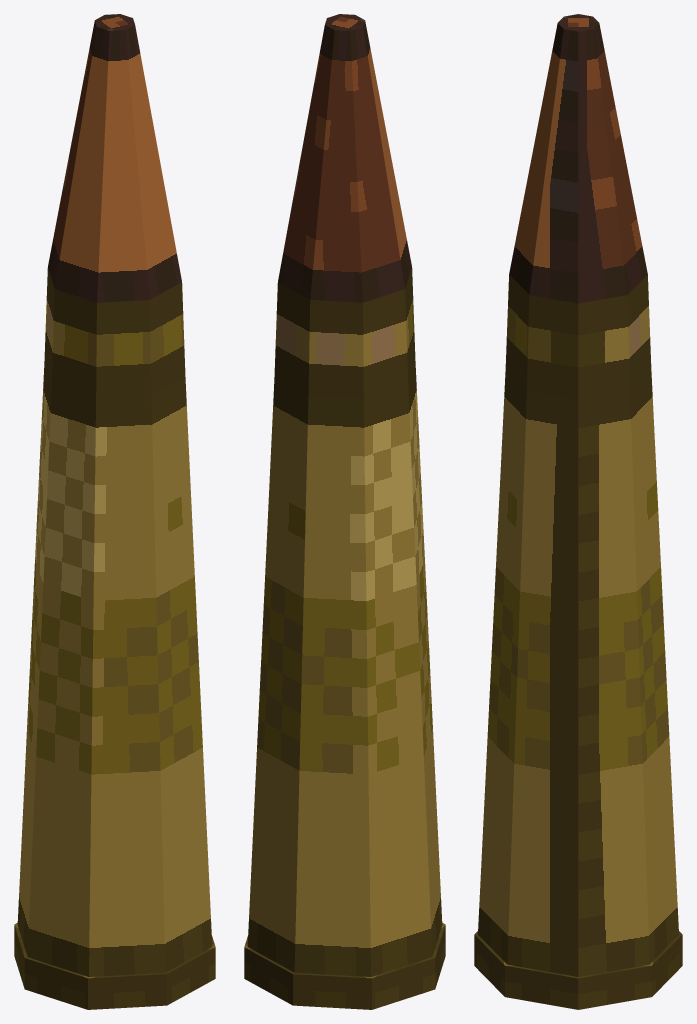
File: SM_Cartridge_01.glb
3 views of the same model, side by side, from view 1: azimuth 30°, elevation 25°; view 2: azimuth 150°, elevation 25°; view 3: azimuth 270°, elevation 25° (orthographic).
Visible parts, largest first — view 1: SM_Cartridge_01; view 2: SM_Cartridge_01; view 3: SM_Cartridge_01.
Part boxes in pixels (left/top/right/bottom): SM_Cartridge_01: left=14, top=14, right=215, bottom=1009; SM_Cartridge_01: left=244, top=14, right=445, bottom=1009; SM_Cartridge_01: left=474, top=14, right=682, bottom=1009.
Bounding box in the file's own units: 0.012 × 0.06 × 0.012.
Materials: 1 (1 with a texture image).
